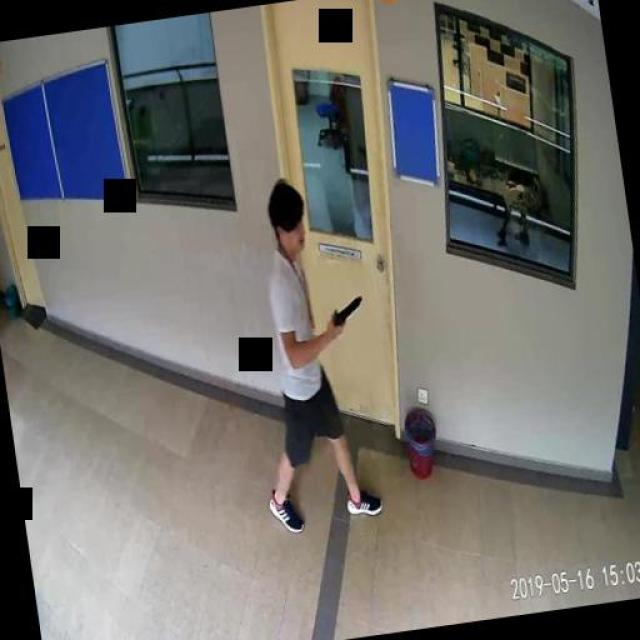gun: (325, 292, 364, 332)
